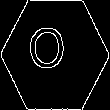O_S: (36, 29, 74, 81)
